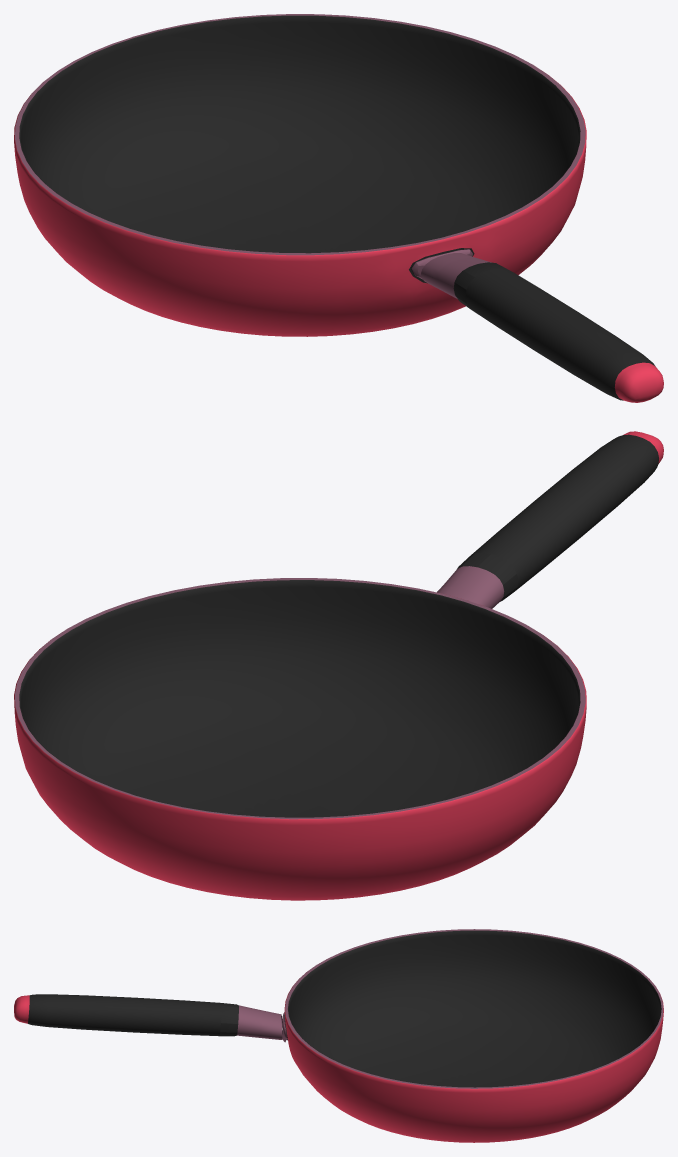
Rendered from FryingPan.fbx.
3 renders of one model, top to bottom at view 1: azimuth 30°, elevation 25°; view 2: azimuth 150°, elevation 25°; view 3: azimuth 270°, elevation 25°, orthographic. The views are drawn at different scales.
Visible parts, largest first — view 1: Frypan; view 2: Frypan; view 3: Frypan.
Part boxes in pixels (left/top/right/bottom): Frypan: left=14, top=14, right=663, bottom=402; Frypan: left=14, top=431, right=663, bottom=900; Frypan: left=14, top=929, right=663, bottom=1142.
Bounding box in the file's own units: 0.9969 × 0.2989 × 1.71.
